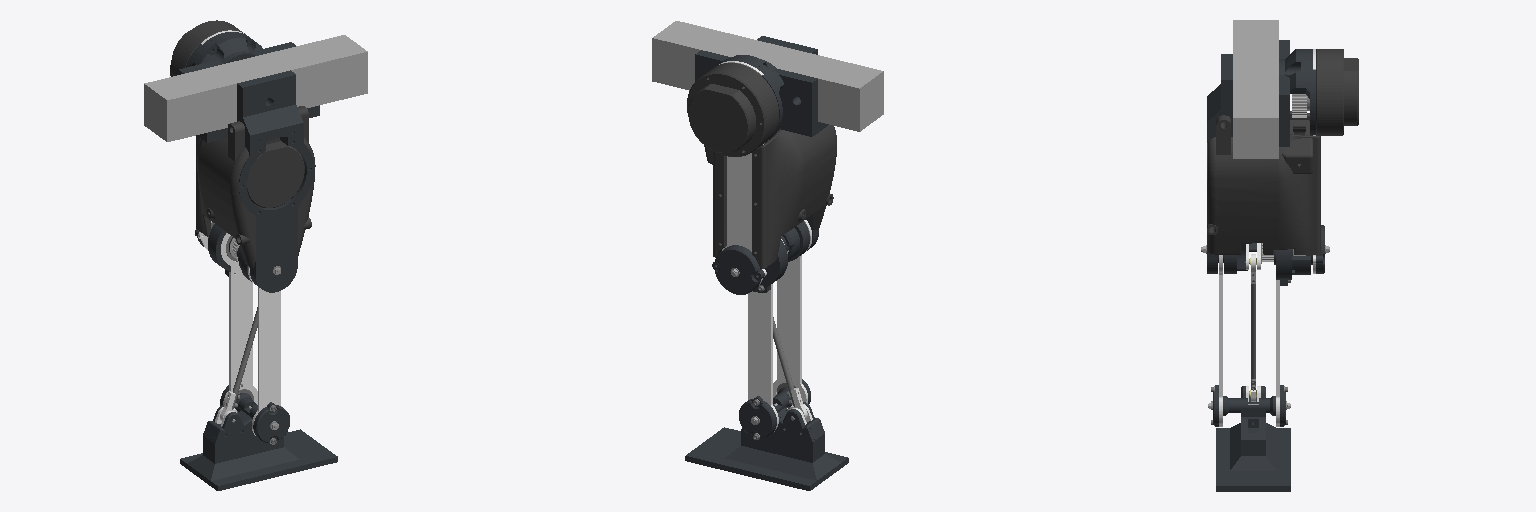
--- Facts derived from the render (not from the file) ---
3 views of the same robot in one strip: view 1: azimuth 30°, elevation 25°; view 2: azimuth 150°, elevation 25°; view 3: azimuth 270°, elevation 25° (orthographic).
Robot: benchmark — 10 links, 9 joints (6 revolute, 3 fixed); root link aluminum_profile; default pose: every joint at zero.
Links seen in each view (by area): view 1: aluminum_profile, left_tibia, benchmark_foot, ankle_shaft; view 2: aluminum_profile, left_tibia, benchmark_foot, left_crank, ankle_shaft; view 3: aluminum_profile, benchmark_foot, left_tibia, left_crank, ankle_shaft.
Boxes of the visible links, x1,y1,x2,y2 form: aluminum_profile: [144, 20, 367, 292]; left_tibia: [208, 224, 289, 444]; benchmark_foot: [180, 393, 337, 490]; ankle_shaft: [220, 307, 257, 421]; aluminum_profile: [652, 21, 883, 294]; left_tibia: [739, 220, 811, 440]; benchmark_foot: [685, 386, 848, 490]; left_crank: [781, 221, 809, 261]; ankle_shaft: [773, 317, 807, 418]; aluminum_profile: [1201, 20, 1358, 273]; benchmark_foot: [1216, 386, 1290, 491]; left_tibia: [1208, 249, 1312, 426]; left_crank: [1224, 243, 1275, 273]; ankle_shaft: [1250, 254, 1256, 401].
Bounding box of the posed robot: 0.2 × 0.1366 × 0.3905 m (x, y, z).
Meshes: 48 distinct files referenced, 111 mesh visuals loaded (48 binary STL).

The robot description file, URDF, robot "benchmark":
<?xml version="1.0" ?>
<!-- Generated using onshape-to-robot -->
<!-- Onshape https://cad.onshape.com/documents/326c7618f048bbd5c9f71f42/w/085260104f7529d4aa44dfd3/e/362dba3e9b9b20be3e7fcf95 -->
<robot name="benchmark">
  <!-- Link aluminum_profile -->
  <link name="aluminum_profile">
    <inertial>
      <origin xyz="0 0 0" rpy="0 0 0"/>
      <mass value="0"/>
      <inertia ixx="0" ixy="0" ixz="0" iyy="0" iyz="0" izz="0"/>
    </inertial>
    <!-- Part benchmark_back_cover -->
    <visual>
      <origin xyz="-0.000132957 0 0.42" rpy="-1.2326e-32 -5.23711e-65 -8.55285e-49"/>
      <geometry>
        <mesh filename="package://assets/benchmark_back_cover.stl"/>
      </geometry>
      <material name="benchmark_back_cover_material">
        <color rgba="0.301961 0.301961 0.301961 1.0"/>
      </material>
    </visual>
    <collision>
      <origin xyz="-0.000132957 0 0.42" rpy="-1.2326e-32 -5.23711e-65 -8.55285e-49"/>
      <geometry>
        <mesh filename="package://assets/benchmark_back_cover.stl"/>
      </geometry>
    </collision>
    <!-- Part bearing_cover_1 -->
    <visual>
      <origin xyz="-0.000132957 0 0.42" rpy="-1.2326e-32 -5.23711e-65 -8.55285e-49"/>
      <geometry>
        <mesh filename="package://assets/bearing_cover_1.stl"/>
      </geometry>
      <material name="bearing_cover_1_material">
        <color rgba="0.262745 0.282353 0.301961 1.0"/>
      </material>
    </visual>
    <collision>
      <origin xyz="-0.000132957 0 0.42" rpy="-1.2326e-32 -5.23711e-65 -8.55285e-49"/>
      <geometry>
        <mesh filename="package://assets/bearing_cover_1.stl"/>
      </geometry>
    </collision>
    <!-- Part bearing_6804_2rs -->
    <visual>
      <origin xyz="-0.000132957 -0.087 0.269" rpy="-1.2326e-32 -5.23711e-65 -8.55285e-49"/>
      <geometry>
        <mesh filename="package://assets/bearing_6804_2rs.stl"/>
      </geometry>
      <material name="bearing_6804_2rs_material">
        <color rgba="0.498039 0.498039 0.498039 1.0"/>
      </material>
    </visual>
    <collision>
      <origin xyz="-0.000132957 -0.087 0.269" rpy="-1.2326e-32 -5.23711e-65 -8.55285e-49"/>
      <geometry>
        <mesh filename="package://assets/bearing_6804_2rs.stl"/>
      </geometry>
    </collision>
    <!-- Part benchmark_outer_hip -->
    <visual>
      <origin xyz="-0.000132957 0 0.42" rpy="-1.2326e-32 -5.23711e-65 -8.55285e-49"/>
      <geometry>
        <mesh filename="package://assets/benchmark_outer_hip.stl"/>
      </geometry>
      <material name="benchmark_outer_hip_material">
        <color rgba="0.262745 0.282353 0.301961 1.0"/>
      </material>
    </visual>
    <collision>
      <origin xyz="-0.000132957 0 0.42" rpy="-1.2326e-32 -5.23711e-65 -8.55285e-49"/>
      <geometry>
        <mesh filename="package://assets/benchmark_outer_hip.stl"/>
      </geometry>
    </collision>
    <!-- Part threaded_shaft__configuration_knee -->
    <visual>
      <origin xyz="-0.000132957 0.0141 0.269" rpy="-1.5708 5.55112e-17 -1.5708"/>
      <geometry>
        <mesh filename="package://assets/threaded_shaft__configuration_knee.stl"/>
      </geometry>
      <material name="threaded_shaft__configuration_knee_material">
        <color rgba="0.647059 0.647059 0.647059 1.0"/>
      </material>
    </visual>
    <collision>
      <origin xyz="-0.000132957 0.0141 0.269" rpy="-1.5708 5.55112e-17 -1.5708"/>
      <geometry>
        <mesh filename="package://assets/threaded_shaft__configuration_knee.stl"/>
      </geometry>
    </collision>
    <!-- Part benchmark_inner_femur -->
    <visual>
      <origin xyz="-0.000132957 0 0.42" rpy="-1.2326e-32 -5.23711e-65 -8.55285e-49"/>
      <geometry>
        <mesh filename="package://assets/benchmark_inner_femur.stl"/>
      </geometry>
      <material name="benchmark_inner_femur_material">
        <color rgba="0.262745 0.282353 0.301961 1.0"/>
      </material>
    </visual>
    <collision>
      <origin xyz="-0.000132957 0 0.42" rpy="-1.2326e-32 -5.23711e-65 -8.55285e-49"/>
      <geometry>
        <mesh filename="package://assets/benchmark_inner_femur.stl"/>
      </geometry>
    </collision>
    <!-- Part nut_m3 -->
    <visual>
      <origin xyz="-0.000132957 -0.0944 0.269" rpy="1.5708 -2.93216e-16 -1.5708"/>
      <geometry>
        <mesh filename="package://assets/nut_m3.stl"/>
      </geometry>
      <material name="nut_m3_material">
        <color rgba="0.690196 0.690196 0.690196 1.0"/>
      </material>
    </visual>
    <collision>
      <origin xyz="-0.000132957 -0.0944 0.269" rpy="1.5708 -2.93216e-16 -1.5708"/>
      <geometry>
        <mesh filename="package://assets/nut_m3.stl"/>
      </geometry>
    </collision>
    <!-- Part washer__configuration_m3 -->
    <visual>
      <origin xyz="-0.000132957 0.00950001 0.269" rpy="3.14159 -0 2.41519e-47"/>
      <geometry>
        <mesh filename="package://assets/washer__configuration_m3.stl"/>
      </geometry>
      <material name="washer__configuration_m3_material">
        <color rgba="0.6 0.6 0.6 1.0"/>
      </material>
    </visual>
    <collision>
      <origin xyz="-0.000132957 0.00950001 0.269" rpy="3.14159 -0 2.41519e-47"/>
      <geometry>
        <mesh filename="package://assets/washer__configuration_m3.stl"/>
      </geometry>
    </collision>
    <!-- Part rmd_x6 -->
    <visual>
      <origin xyz="-0.000132957 9.88509e-98 0.42" rpy="-1.2326e-32 -5.23711e-65 -8.55285e-49"/>
      <geometry>
        <mesh filename="package://assets/rmd_x6.stl"/>
      </geometry>
      <material name="rmd_x6_material">
        <color rgba="0.301961 0.301961 0.301961 1.0"/>
      </material>
    </visual>
    <collision>
      <origin xyz="-0.000132957 9.88509e-98 0.42" rpy="-1.2326e-32 -5.23711e-65 -8.55285e-49"/>
      <geometry>
        <mesh filename="package://assets/rmd_x6.stl"/>
      </geometry>
    </collision>
    <!-- Part bearing_6804_2rs_2 -->
    <visual>
      <origin xyz="-0.000132957 0.00200001 0.269" rpy="-6.12323e-17 -5.23711e-65 -8.55285e-49"/>
      <geometry>
        <mesh filename="package://assets/bearing_6804_2rs.stl"/>
      </geometry>
      <material name="bearing_6804_2rs_2_material">
        <color rgba="0.498039 0.498039 0.498039 1.0"/>
      </material>
    </visual>
    <collision>
      <origin xyz="-0.000132957 0.00200001 0.269" rpy="-6.12323e-17 -5.23711e-65 -8.55285e-49"/>
      <geometry>
        <mesh filename="package://assets/bearing_6804_2rs.stl"/>
      </geometry>
    </collision>
    <!-- Part benchmark_outer_femur -->
    <visual>
      <origin xyz="-0.000132957 0 0.42" rpy="-1.2326e-32 -5.23711e-65 -8.55285e-49"/>
      <geometry>
        <mesh filename="package://assets/benchmark_outer_femur.stl"/>
      </geometry>
      <material name="benchmark_outer_femur_material">
        <color rgba="0.917647 0.917647 0.917647 1.0"/>
      </material>
    </visual>
    <collision>
      <origin xyz="-0.000132957 0 0.42" rpy="-1.2326e-32 -5.23711e-65 -8.55285e-49"/>
      <geometry>
        <mesh filename="package://assets/benchmark_outer_femur.stl"/>
      </geometry>
    </collision>
    <!-- Part washer__configuration_m3_2 -->
    <visual>
      <origin xyz="-0.000132957 -0.0935 0.269" rpy="-1.2326e-32 -5.23711e-65 -8.55285e-49"/>
      <geometry>
        <mesh filename="package://assets/washer__configuration_m3.stl"/>
      </geometry>
      <material name="washer__configuration_m3_2_material">
        <color rgba="0.6 0.6 0.6 1.0"/>
      </material>
    </visual>
    <collision>
      <origin xyz="-0.000132957 -0.0935 0.269" rpy="-1.2326e-32 -5.23711e-65 -8.55285e-49"/>
      <geometry>
        <mesh filename="package://assets/washer__configuration_m3.stl"/>
      </geometry>
    </collision>
    <!-- Part rmd_x6_2 -->
    <visual>
      <origin xyz="-0.000132957 0 0.42" rpy="-1.2326e-32 -5.23711e-65 -8.55285e-49"/>
      <geometry>
        <mesh filename="package://assets/rmd_x6__2.stl"/>
      </geometry>
      <material name="rmd_x6_2_material">
        <color rgba="0.301961 0.301961 0.301961 1.0"/>
      </material>
    </visual>
    <collision>
      <origin xyz="-0.000132957 0 0.42" rpy="-1.2326e-32 -5.23711e-65 -8.55285e-49"/>
      <geometry>
        <mesh filename="package://assets/rmd_x6__2.stl"/>
      </geometry>
    </collision>
    <!-- Part aluminum_profile -->
    <visual>
      <origin xyz="0 0 0.42" rpy="0 -0 0"/>
      <geometry>
        <mesh filename="package://assets/aluminum_profile.stl"/>
      </geometry>
      <material name="aluminum_profile_material">
        <color rgba="0.701961 0.701961 0.701961 1.0"/>
      </material>
    </visual>
    <collision>
      <origin xyz="0 0 0.42" rpy="0 -0 0"/>
      <geometry>
        <mesh filename="package://assets/aluminum_profile.stl"/>
      </geometry>
    </collision>
    <!-- Part benchmark_front_cover -->
    <visual>
      <origin xyz="-0.000132957 0 0.42" rpy="-1.2326e-32 -5.23711e-65 -8.55285e-49"/>
      <geometry>
        <mesh filename="package://assets/benchmark_front_cover.stl"/>
      </geometry>
      <material name="benchmark_front_cover_material">
        <color rgba="0.301961 0.301961 0.301961 1.0"/>
      </material>
    </visual>
    <collision>
      <origin xyz="-0.000132957 0 0.42" rpy="-1.2326e-32 -5.23711e-65 -8.55285e-49"/>
      <geometry>
        <mesh filename="package://assets/benchmark_front_cover.stl"/>
      </geometry>
    </collision>
    <!-- Part nut_m3_2 -->
    <visual>
      <origin xyz="-0.000132957 0.0104 0.269" rpy="-1.5708 3.54449e-16 1.5708"/>
      <geometry>
        <mesh filename="package://assets/nut_m3.stl"/>
      </geometry>
      <material name="nut_m3_2_material">
        <color rgba="0.690196 0.690196 0.690196 1.0"/>
      </material>
    </visual>
    <collision>
      <origin xyz="-0.000132957 0.0104 0.269" rpy="-1.5708 3.54449e-16 1.5708"/>
      <geometry>
        <mesh filename="package://assets/nut_m3.stl"/>
      </geometry>
    </collision>
    <!-- Part upper_femur_2 -->
    <visual>
      <origin xyz="-0.000132957 -3.84739e-98 0.42" rpy="-1.2326e-32 -5.23711e-65 -8.55285e-49"/>
      <geometry>
        <mesh filename="package://assets/upper_femur_2.stl"/>
      </geometry>
      <material name="upper_femur_2_material">
        <color rgba="0.262745 0.282353 0.301961 1.0"/>
      </material>
    </visual>
    <collision>
      <origin xyz="-0.000132957 -3.84739e-98 0.42" rpy="-1.2326e-32 -5.23711e-65 -8.55285e-49"/>
      <geometry>
        <mesh filename="package://assets/upper_femur_2.stl"/>
      </geometry>
    </collision>
  </link>
  <!-- Link motor_pulley -->
  <link name="motor_pulley">
    <inertial>
      <origin xyz="-6.05671e-16 4.59528e-05 -0.010399" rpy="0 0 0"/>
      <mass value="0.0695532"/>
      <inertia ixx="9.82762e-06" ixy="-2.78977e-21" ixz="-1.32647e-20" iyy="9.79581e-06" iyz="-2.8028e-08" izz="1.56643e-05"/>
    </inertial>
    <!-- Part din_6325_3mm__configuration__12 -->
    <visual>
      <origin xyz="0 0.01 -0.006" rpy="-1.5708 -1.5708 0"/>
      <geometry>
        <mesh filename="package://assets/din_6325_3mm__configuration__12.stl"/>
      </geometry>
      <material name="din_6325_3mm__configuration__12_material">
        <color rgba="0.498039 0.498039 0.498039 1.0"/>
      </material>
    </visual>
    <collision>
      <origin xyz="0 0.01 -0.006" rpy="-1.5708 -1.5708 0"/>
      <geometry>
        <mesh filename="package://assets/din_6325_3mm__configuration__12.stl"/>
      </geometry>
    </collision>
    <!-- Part screw_m3__configuration__12 -->
    <visual>
      <origin xyz="-0.01 0 -0.0102" rpy="3.2068e-81 -6.12303e-17 -1.5708"/>
      <geometry>
        <mesh filename="package://assets/screw_m3__configuration__12.stl"/>
      </geometry>
      <material name="screw_m3__configuration__12_material">
        <color rgba="0.301961 0.301961 0.301961 1.0"/>
      </material>
    </visual>
    <collision>
      <origin xyz="-0.01 0 -0.0102" rpy="3.2068e-81 -6.12303e-17 -1.5708"/>
      <geometry>
        <mesh filename="package://assets/screw_m3__configuration__12.stl"/>
      </geometry>
    </collision>
    <!-- Part screw_m3__configuration__12_2 -->
    <visual>
      <origin xyz="-0.005 0.00866025 -0.0102" rpy="3.2068e-81 -6.12303e-17 -1.5708"/>
      <geometry>
        <mesh filename="package://assets/screw_m3__configuration__12.stl"/>
      </geometry>
      <material name="screw_m3__configuration__12_2_material">
        <color rgba="0.301961 0.301961 0.301961 1.0"/>
      </material>
    </visual>
    <collision>
      <origin xyz="-0.005 0.00866025 -0.0102" rpy="3.2068e-81 -6.12303e-17 -1.5708"/>
      <geometry>
        <mesh filename="package://assets/screw_m3__configuration__12.stl"/>
      </geometry>
    </collision>
    <!-- Part screw_m3__configuration__12_3 -->
    <visual>
      <origin xyz="0.005 0.00866025 -0.0102" rpy="3.2068e-81 -6.12303e-17 -1.5708"/>
      <geometry>
        <mesh filename="package://assets/screw_m3__configuration__12.stl"/>
      </geometry>
      <material name="screw_m3__configuration__12_3_material">
        <color rgba="0.301961 0.301961 0.301961 1.0"/>
      </material>
    </visual>
    <collision>
      <origin xyz="0.005 0.00866025 -0.0102" rpy="3.2068e-81 -6.12303e-17 -1.5708"/>
      <geometry>
        <mesh filename="package://assets/screw_m3__configuration__12.stl"/>
      </geometry>
    </collision>
    <!-- Part screw_m3__configuration__12_4 -->
    <visual>
      <origin xyz="0.005 -0.00866025 -0.0102" rpy="3.2068e-81 -6.12303e-17 -1.5708"/>
      <geometry>
        <mesh filename="package://assets/screw_m3__configuration__12.stl"/>
      </geometry>
      <material name="screw_m3__configuration__12_4_material">
        <color rgba="0.301961 0.301961 0.301961 1.0"/>
      </material>
    </visual>
    <collision>
      <origin xyz="0.005 -0.00866025 -0.0102" rpy="3.2068e-81 -6.12303e-17 -1.5708"/>
      <geometry>
        <mesh filename="package://assets/screw_m3__configuration__12.stl"/>
      </geometry>
    </collision>
    <!-- Part screw_m3__configuration__12_5 -->
    <visual>
      <origin xyz="-0.005 -0.00866025 -0.0102" rpy="3.2068e-81 -6.12303e-17 -1.5708"/>
      <geometry>
        <mesh filename="package://assets/screw_m3__configuration__12.stl"/>
      </geometry>
      <material name="screw_m3__configuration__12_5_material">
        <color rgba="0.301961 0.301961 0.301961 1.0"/>
      </material>
    </visual>
    <collision>
      <origin xyz="-0.005 -0.00866025 -0.0102" rpy="3.2068e-81 -6.12303e-17 -1.5708"/>
      <geometry>
        <mesh filename="package://assets/screw_m3__configuration__12.stl"/>
      </geometry>
    </collision>
    <!-- Part motor_pulley -->
    <visual>
      <origin xyz="0 0 -0.0194" rpy="-1.5708 -1.5708 0"/>
      <geometry>
        <mesh filename="package://assets/motor_pulley.stl"/>
      </geometry>
      <material name="motor_pulley_material">
        <color rgba="0.690196 0.690196 0.690196 1.0"/>
      </material>
    </visual>
    <collision>
      <origin xyz="0 0 -0.0194" rpy="-1.5708 -1.5708 0"/>
      <geometry>
        <mesh filename="package://assets/motor_pulley.stl"/>
      </geometry>
    </collision>
    <!-- Part screw_m3__configuration__12_6 -->
    <visual>
      <origin xyz="0.01 0 -0.0102" rpy="3.2068e-81 -6.12303e-17 -1.5708"/>
      <geometry>
        <mesh filename="package://assets/screw_m3__configuration__12.stl"/>
      </geometry>
      <material name="screw_m3__configuration__12_6_material">
        <color rgba="0.301961 0.301961 0.301961 1.0"/>
      </material>
    </visual>
    <collision>
      <origin xyz="0.01 0 -0.0102" rpy="3.2068e-81 -6.12303e-17 -1.5708"/>
      <geometry>
        <mesh filename="package://assets/screw_m3__configuration__12.stl"/>
      </geometry>
    </collision>
  </link>
  <!-- Joint from aluminum_profile to motor_pulley -->
  <joint name="knee_motor" type="revolute">
    <origin xyz="-0.000132957 0 0.42" rpy="1.5708 5.23711e-65 3.14159"/>
    <parent link="aluminum_profile"/>
    <child link="motor_pulley"/>
    <axis xyz="0 0 1"/>
    <limit effort="10" velocity="10" lower="-3.141592653589793" upper="3.141592653589793"/>
  </joint>
  <!-- Link left_tibia -->
  <link name="left_tibia">
    <inertial>
      <origin xyz="0.000199221 -0.0560065 -0.0375301" rpy="0 0 0"/>
      <mass value="0.139207"/>
      <inertia ixx="0.00066239" ixy="-1.30651e-06" ixz="1.00378e-06" iyy="0.000116019" iyz="7.99666e-05" izz="0.00056617"/>
    </inertial>
    <!-- Part washer__configuration_m2_5 -->
    <visual>
      <origin xyz="0.0065 0.0204939 -0.0603" rpy="1.5708 -1.75935e-23 -1.23845e-13"/>
      <geometry>
        <mesh filename="package://assets/washer__configuration_m2_5.stl"/>
      </geometry>
      <material name="washer__configuration_m2_5_material">
        <color rgba="0.6 0.6 0.6 1.0"/>
      </material>
    </visual>
    <collision>
      <origin xyz="0.0065 0.0204939 -0.0603" rpy="1.5708 -1.75935e-23 -1.23845e-13"/>
      <geometry>
        <mesh filename="package://assets/washer__configuration_m2_5.stl"/>
      </geometry>
    </collision>
    <!-- Part screw_m2_5__configuration__10 -->
    <visual>
      <origin xyz="0.0065 -0.0262059 -0.0619" rpy="6.66134e-16 8.27463e-16 -1.244e-13"/>
      <geometry>
        <mesh filename="package://assets/screw_m2_5__configuration__10.stl"/>
      </geometry>
      <material name="screw_m2_5__configuration__10_material">
        <color rgba="0.498039 0.498039 0.498039 1.0"/>
      </material>
    </visual>
    <collision>
      <origin xyz="0.0065 -0.0262059 -0.0619" rpy="6.66134e-16 8.27463e-16 -1.244e-13"/>
      <geometry>
        <mesh filename="package://assets/screw_m2_5__configuration__10.stl"/>
      </geometry>
    </collision>
    <!-- Part ankle_bearing_cover -->
    <visual>
      <origin xyz="2.77827e-17 0.151 0.0292" rpy="1.5708 1.75935e-23 3.14159"/>
      <geometry>
        <mesh filename="package://assets/ankle_bearing_cover.stl"/>
      </geometry>
      <material name="ankle_bearing_cover_material">
        <color rgba="0.262745 0.282353 0.301961 1.0"/>
      </material>
    </visual>
    <collision>
      <origin xyz="2.77827e-17 0.151 0.0292" rpy="1.5708 1.75935e-23 3.14159"/>
      <geometry>
        <mesh filename="package://assets/ankle_bearing_cover.stl"/>
      </geometry>
    </collision>
    <!-- Part inner_tibia -->
    <visual>
      <origin xyz="2.71051e-20 0.151 -0.0835" rpy="-1.5708 -4.0528e-32 3.77882e-34"/>
      <geometry>
        <mesh filename="package://assets/inner_tibia.stl"/>
      </geometry>
      <material name="inner_tibia_material">
        <color rgba="0.917647 0.917647 0.917647 1.0"/>
      </material>
    </visual>
    <collision>
      <origin xyz="2.71051e-20 0.151 -0.0835" rpy="-1.5708 -4.0528e-32 3.77882e-34"/>
      <geometry>
        <mesh filename="package://assets/inner_tibia.stl"/>
      </geometry>
    </collision>
    <!-- Part washer__configuration_m3_3 -->
    <visual>
      <origin xyz="-3.33344e-14 -0.15 0.005" rpy="-1.5708 -4.0528e-32 3.77882e-34"/>
      <geometry>
        <mesh filename="package://assets/washer__configuration_m3.stl"/>
      </geometry>
      <material name="washer__configuration_m3_3_material">
        <color rgba="0.6 0.6 0.6 1.0"/>
      </material>
    </visual>
    <collision>
      <origin xyz="-3.33344e-14 -0.15 0.005" rpy="-1.5708 -4.0528e-32 3.77882e-34"/>
      <geometry>
        <mesh filename="package://assets/washer__configuration_m3.stl"/>
      </geometry>
    </collision>
    <!-- Part bearing_6802_2rs -->
    <visual>
      <origin xyz="-3.31401e-14 -0.15 -0.0015" rpy="-6.27276e-15 -1.5708 0"/>
      <geometry>
        <mesh filename="package://assets/bearing_6802_2rs.stl"/>
      </geometry>
      <material name="bearing_6802_2rs_material">
        <color rgba="0.498039 0.498039 0.498039 1.0"/>
      </material>
    </visual>
    <collision>
      <origin xyz="-3.31401e-14 -0.15 -0.0015" rpy="-6.27276e-15 -1.5708 0"/>
      <geometry>
        <mesh filename="package://assets/bearing_6802_2rs.stl"/>
      </geometry>
    </collision>
    <!-- Part washer__configuration_m2_5_2 -->
    <visual>
      <origin xyz="-1.67921e-14 -0.006 -0.007" rpy="1.5708 -1.75935e-23 -1.23845e-13"/>
      <geometry>
        <mesh filename="package://assets/washer__configuration_m2_5.stl"/>
      </geometry>
      <material name="washer__configuration_m2_5_2_material">
        <color rgba="0.6 0.6 0.6 1.0"/>
      </material>
    </visual>
    <collision>
      <origin xyz="-1.67921e-14 -0.006 -0.007" rpy="1.5708 -1.75935e-23 -1.23845e-13"/>
      <geometry>
        <mesh filename="package://assets/washer__configuration_m2_5.stl"/>
      </geometry>
    </collision>
    <!-- Part washer__configuration_m2_5_3 -->
    <visual>
      <origin xyz="-3.46945e-14 -0.16575 -0.0573" rpy="1.5708 -1.75935e-23 -1.23845e-13"/>
      <geometry>
        <mesh filename="package://assets/washer__configuration_m2_5.stl"/>
      </geometry>
      <material name="washer__configuration_m2_5_3_material">
        <color rgba="0.6 0.6 0.6 1.0"/>
      </material>
    </visual>
    <collision>
      <origin xyz="-3.46945e-14 -0.16575 -0.0573" rpy="1.5708 -1.75935e-23 -1.23845e-13"/>
      <geometry>
        <mesh filename="package://assets/washer__configuration_m2_5.stl"/>
      </geometry>
    </collision>
    <!-- Part screw_m2_5__configuration__8 -->
    <visual>
      <origin xyz="-3.47222e-14 -0.16575 0.0046" rpy="3.14159 -3.1225e-17 -1.23623e-13"/>
      <geometry>
        <mesh filename="package://assets/screw_m2_5__configuration__8.stl"/>
      </geometry>
      <material name="screw_m2_5__configuration__8_material">
        <color rgba="0.498039 0.498039 0.498039 1.0"/>
      </material>
    </visual>
    <collision>
      <origin xyz="-3.47222e-14 -0.16575 0.0046" rpy="3.14159 -3.1225e-17 -1.23623e-13"/>
      <geometry>
        <mesh filename="package://assets/screw_m2_5__configuration__8.stl"/>
      </geometry>
    </collision>
    <!-- Part washer__configuration_m2_5_4 -->
    <visual>
      <origin xyz="-3.15581e-14 -0.13425 -0.0573" rpy="1.5708 -1.75935e-23 -1.23845e-13"/>
      <geometry>
        <mesh filename="package://assets/washer__configuration_m2_5.stl"/>
      </geometry>
      <material name="washer__configuration_m2_5_4_material">
        <color rgba="0.6 0.6 0.6 1.0"/>
      </material>
    </visual>
    <collision>
      <origin xyz="-3.15581e-14 -0.13425 -0.0573" rpy="1.5708 -1.75935e-23 -1.23845e-13"/>
      <geometry>
        <mesh filename="package://assets/washer__configuration_m2_5.stl"/>
      </geometry>
    </collision>
    <!-- Part washer__configuration_m3_4 -->
    <visual>
      <origin xyz="-3.34176e-14 -0.15 -0.0593" rpy="1.5708 -1.75935e-23 -1.23845e-13"/>
      <geometry>
        <mesh filename="package://assets/washer__configuration_m3.stl"/>
      </geometry>
      <material name="washer__configuration_m3_4_material">
        <color rgba="0.6 0.6 0.6 1.0"/>
      </material>
    </visual>
    <collision>
      <origin xyz="-3.34176e-14 -0.15 -0.0593" rpy="1.5708 -1.75935e-23 -1.23845e-13"/>
      <geometry>
        <mesh filename="package://assets/washer__configuration_m3.stl"/>
      </geometry>
    </collision>
    <!-- Part bearing_6802_2rs_2 -->
    <visual>
      <origin xyz="-3.31124e-14 -0.15 -0.0528" rpy="8.04912e-15 1.5708 0"/>
      <geometry>
        <mesh filename="package://assets/bearing_6802_2rs.stl"/>
      </geometry>
      <material name="bearing_6802_2rs_2_material">
        <color rgba="0.498039 0.498039 0.498039 1.0"/>
      </material>
    </visual>
    <collision>
      <origin xyz="-3.31124e-14 -0.15 -0.0528" rpy="8.04912e-15 1.5708 0"/>
      <geometry>
        <mesh filename="package://assets/bearing_6802_2rs.stl"/>
      </geometry>
    </collision>
    <!-- Part bearing_6804_2rs_3 -->
    <visual>
      <origin xyz="-1.62925e-14 -5.55112e-16 -0.0538" rpy="1.5708 -1.75935e-23 -1.23845e-13"/>
      <geometry>
        <mesh filename="package://assets/bearing_6804_2rs.stl"/>
      </geometry>
      <material name="bearing_6804_2rs_3_material">
        <color rgba="0.498039 0.498039 0.498039 1.0"/>
      </material>
    </visual>
    <collision>
      <origin xyz="-1.62925e-14 -5.55112e-16 -0.0538" rpy="1.5708 -1.75935e-23 -1.23845e-13"/>
      <geometry>
        <mesh filename="package://assets/bearing_6804_2rs.stl"/>
      </geometry>
    </collision>
    <!-- Part screw_m2_5__configuration__8_2 -->
    <visual>
      <origin xyz="-3.4972e-14 -0.16575 -0.0589" rpy="6.66134e-16 8.27463e-16 -1.244e-13"/>
      <geometry>
        <mesh filename="package://assets/screw_m2_5__configuration__8.stl"/>
      </geometry>
      <material name="screw_m2_5__configuration__8_2_material">
        <color rgba="0.498039 0.498039 0.498039 1.0"/>
      </material>
    </visual>
    <collision>
      <origin xyz="-3.4972e-14 -0.16575 -0.0589" rpy="6.66134e-16 8.27463e-16 -1.244e-13"/>
      <geometry>
        <mesh filename="package://assets/screw_m2_5__configuration__8.stl"/>
      </geometry>
    </collision>
    <!-- Part screw_m2_5__configuration__140 -->
    <visual>
      <origin xyz="-1.67366e-14 -0.006 -0.0086" rpy="6.66134e-16 8.27463e-16 -1.244e-13"/>
      <geometry>
        <mesh filename="package://assets/screw_m2_5__configuration__140.stl"/>
      </geometry>
      <material name="screw_m2_5__configuration__140_material">
        <color rgba="0.498039 0.498039 0.498039 1.0"/>
      </material>
    </visual>
    <collision>
      <origin xyz="-1.67366e-14 -0.006 -0.0086" rpy="6.66134e-16 8.27463e-16 -1.244e-13"/>
      <geometry>
        <mesh filename="package://assets/screw_m2_5__configuration__140.stl"/>
      </geometry>
    </collision>
    <!-- Part outer_knee_1 -->
    <visual>
      <origin xyz="-1.10995e-16 0.151 -0.0835" rpy="-1.5708 -4.0528e-32 3.77882e-34"/>
      <geometry>
        <mesh filename="package://assets/outer_knee_1.stl"/>
      </geometry>
      <material name="outer_knee_1_material">
        <color rgba="0.262745 0.282353 0.301961 1.0"/>
      </material>
    </visual>
    <collision>
      <origin xyz="-1.10995e-16 0.151 -0.0835" rpy="-1.5708 -4.0528e-32 3.77882e-34"/>
      <geometry>
        <mesh filename="package://assets/outer_knee_1.stl"/>
      </geometry>
    </collision>
    <!-- Part washer__configuration_m2_5_5 -->
    <visual>
      <origin xyz="0.00344146 0.00491491 -0.0607" rpy="1.5708 -1.75935e-23 -1.23845e-13"/>
      <geometry>
        <mesh filename="package://assets/washer__configuration_m2_5.stl"/>
      </geometry>
      <material name="washer__configuration_m2_5_5_material">
        <color rgba="0.6 0.6 0.6 1.0"/>
      </material>
    </visual>
    <collision>
      <origin xyz="0.00344146 0.00491491 -0.0607" rpy="1.5708 -1.75935e-23 -1.23845e-13"/>
      <geometry>
        <mesh filename="package://assets/washer__configuration_m2_5.stl"/>
      </geometry>
    </collision>
    <!-- Part washer__configuration_m2_5_6 -->
    <visual>
      <origin xyz="-3.1558e-14 -0.13425 0.0036" rpy="1.5708 -1.75935e-23 -1.23845e-13"/>
      <geometry>
        <mesh filename="package://assets/washer__configuration_m2_5.stl"/>
      </geometry>
      <material name="washer__configuration_m2_5_6_material">
        <color rgba="0.6 0.6 0.6 1.0"/>
      </material>
    </visual>
    <collision>
      <origin xyz="-3.1558e-14 -0.13425 0.0036" rpy="1.5708 -1.75935e-23 -1.23845e-13"/>
      <geometry>
        <mesh filename="package://assets/washer__configuration_m2_5.stl"/>
      </geometry>
    </collision>
    <!-- Part screw_m2_5__configuration__12 -->
    <visual>
      <origin xyz="0.0139256 -0.0097508 -0.0776" rpy="6.66134e-16 8.27463e-16 -1.244e-13"/>
      <geometry>
        <mesh filename="package://assets/screw_m2_5__configuration__12.stl"/>
      </geometry>
      <material name="screw_m2_5__configuration__12_material">
        <color rgba="0.498039 0.498039 0.498039 1.0"/>
      </material>
    </visual>
    <collision>
      <origin xyz="0.0139256 -0.0097508 -0.0776" rpy="6.66134e-16 8.27463e-16 -1.244e-13"/>
      <geometry>
        <mesh filename="package://assets/screw_m2_5__configuration__12.stl"/>
      </geometry>
    </collision>
    <!-- Part washer__configuration_m2_5_7 -->
    <visual>
      <origin xyz="-0.0065 0.0204939 -0.0603" rpy="1.5708 -1.75935e-23 -1.23845e-13"/>
      <geometry>
        <mesh filename="package://assets/washer__configuration_m2_5.stl"/>
      </geometry>
      <material name="washer__configuration_m2_5_7_material">
        <color rgba="0.6 0.6 0.6 1.0"/>
      </material>
    </visual>
    <collision>
      <origin xyz="-0.0065 0.0204939 -0.0603" rpy="1.5708 -1.75935e-23 -1.23845e-13"/>
      <geometry>
        <mesh filename="package://assets/washer__configuration_m2_5.stl"/>
      </geometry>
    </collision>
    <!-- Part washer__configuration_m2_5_8 -->
    <visual>
      <origin xyz="-3.46944e-14 -0.16575 0.003" rpy="-1.5708 -4.0528e-32 3.77882e-34"/>
      <geometry>
        <mesh filename="package://assets/washer__configuration_m2_5.stl"/>
      </geometry>
      <material name="washer__configuration_m2_5_8_material">
        <color rgba="0.6 0.6 0.6 1.0"/>
      </material>
    </visual>
    <collision>
      <origin xyz="-3.46944e-14 -0.16575 0.003" rpy="-1.5708 -4.0528e-32 3.77882e-34"/>
      <geometry>
        <mesh filename="package://assets/washer__configuration_m2_5.stl"/>
      </geometry>
    </collision>
    <!-- Part washer__configuration_m2_5_9 -->
    <visual>
      <origin xyz="-0.0065 -0.0262059 -0.0603" rpy="1.5708 -1.75935e-23 -1.23845e-13"/>
      <geometry>
        <mesh filename="package://assets/washer__configuration_m2_5.stl"/>
      </geometry>
      <material name="washer__configuration_m2_5_9_material">
        <color rgba="0.6 0.6 0.6 1.0"/>
      </material>
    </visual>
    <collision>
      <origin xyz="-0.0065 -0.0262059 -0.0603" rpy="1.5708 -1.75935e-23 -1.23845e-13"/>
      <geometry>
        <mesh filename="package://assets/washer__configuration_m2_5.stl"/>
      </geometry>
    </collision>
    <!-- Part washer__configuration_m2_5_10 -->
    <visual>
      <origin xyz="0.0065 -0.0262059 -0.0603" rpy="1.5708 -1.75935e-23 -1.23845e-13"/>
      <geometry>
        <mesh filename="package://assets/washer__configuration_m2_5.stl"/>
      </geometry>
      <material name="washer__configuration_m2_5_10_material">
        <color rgba="0.6 0.6 0.6 1.0"/>
      </material>
    </visual>
    <collision>
      <origin xyz="0.0065 -0.0262059 -0.0603" rpy="1.5708 -1.75935e-23 -1.23845e-13"/>
      <geometry>
        <mesh filename="package://assets/washer__configuration_m2_5.stl"/>
      </geometry>
    </collision>
    <!-- Part nut_m2_5 -->
    <visual>
      <origin xyz="0.0139256 -0.0097508 -0.0648" rpy="3.14159 -7.77156e-16 -0.610865"/>
      <geometry>
        <mesh filename="package://assets/nut_m2_5.stl"/>
      </geometry>
      <material name="nut_m2_5_material">
        <color rgba="0.647059 0.647059 0.647059 1.0"/>
      </material>
    </visual>
    <collision>
      <origin xyz="0.0139256 -0.0097508 -0.0648" rpy="3.14159 -7.77156e-16 -0.610865"/>
      <geometry>
        <mesh filename="package://assets/nut_m2_5.stl"/>
      </geometry>
    </collision>
    <!-- Part inner_knee -->
    <visual>
      <origin xyz="2.71051e-20 0.151 -0.0835" rpy="-1.5708 -4.0528e-32 3.77882e-34"/>
      <geometry>
        <mesh filename="package://assets/inner_knee.stl"/>
      </geometry>
      <material name="inner_knee_material">
        <color rgba="0.262745 0.282353 0.301961 1.0"/>
      </material>
    </visual>
    <collision>
      <origin xyz="2.71051e-20 0.151 -0.0835" rpy="-1.5708 -4.0528e-32 3.77882e-34"/>
      <geometry>
        <mesh filename="package://assets/inner_knee.stl"/>
      </geometry>
    </collision>
    <!-- Part washer__configuration_m2_5_11 -->
    <visual>
      <origin xyz="-0.00344146 -0.00491491 -0.0607" rpy="1.5708 -1.75935e-23 -1.23845e-13"/>
      <geometry>
        <mesh filename="package://assets/washer__configuration_m2_5.stl"/>
      </geometry>
      <material name="washer__configuration_m2_5_11_material">
        <color rgba="0.6 0.6 0.6 1.0"/>
      </material>
    </visual>
    <collision>
      <origin xyz="-0.00344146 -0.00491491 -0.0607" rpy="1.5708 -1.75935e-23 -1.23845e-13"/>
      <geometry>
        <mesh filename="package://assets/washer__configuration_m2_5.stl"/>
      </geometry>
    </collision>
    <!-- Part screw_m2_5__configuration__8_3 -->
    <visual>
      <origin xyz="0.00344146 0.00491491 -0.0597" rpy="3.14159 -3.1225e-17 -1.23623e-13"/>
      <geometry>
        <mesh filename="package://assets/screw_m2_5__configuration__8.stl"/>
      </geometry>
      <material name="screw_m2_5__configuration__8_3_material">
        <color rgba="0.498039 0.498039 0.498039 1.0"/>
      </material>
    </visual>
    <collision>
      <origin xyz="0.00344146 0.00491491 -0.0597" rpy="3.14159 -3.1225e-17 -1.23623e-13"/>
      <geometry>
        <mesh filename="package://assets/screw_m2_5__configuration__8.stl"/>
      </geometry>
    </collision>
    <!-- Part threaded_shaft__configuration_ankle -->
    <visual>
      <origin xyz="-3.33067e-14 -0.15 -0.0633" rpy="3.14159 -1.5708 0"/>
      <geometry>
        <mesh filename="package://assets/threaded_shaft__configuration_ankle.stl"/>
      </geometry>
      <material name="threaded_shaft__configuration_ankle_material">
        <color rgba="0.647059 0.647059 0.647059 1.0"/>
      </material>
    </visual>
    <collision>
      <origin xyz="-3.33067e-14 -0.15 -0.0633" rpy="3.14159 -1.5708 0"/>
      <geometry>
        <mesh filename="package://assets/threaded_shaft__configuration_ankle.stl"/>
      </geometry>
    </collision>
    <!-- Part screw_m2_5__configuration__10_2 -->
    <visual>
      <origin xyz="-0.0065 -0.0262059 -0.0619" rpy="6.66134e-16 8.27463e-16 -1.244e-13"/>
      <geometry>
        <mesh filename="package://assets/screw_m2_5__configuration__10.stl"/>
      </geometry>
      <material name="screw_m2_5__configuration__10_2_material">
        <color rgba="0.498039 0.498039 0.498039 1.0"/>
      </material>
    </visual>
    <collision>
      <origin xyz="-0.0065 -0.0262059 -0.0619" rpy="6.66134e-16 8.27463e-16 -1.244e-13"/>
      <geometry>
        <mesh filename="package://assets/screw_m2_5__configuration__10.stl"/>
      </geometry>
    </collision>
    <!-- Part screw_m2_5__configuration__8_4 -->
    <visual>
      <origin xyz="-3.15581e-14 -0.13425 0.0046" rpy="3.14159 -3.1225e-17 -1.23623e-13"/>
      <geometry>
        <mesh filename="package://assets/screw_m2_5__configuration__8.stl"/>
      </geometry>
      <material name="screw_m2_5__configuration__8_4_material">
        <color rgba="0.498039 0.498039 0.498039 1.0"/>
      </material>
    </visual>
    <collision>
      <origin xyz="-3.15581e-14 -0.13425 0.0046" rpy="3.14159 -3.1225e-17 -1.23623e-13"/>
      <geometry>
        <mesh filename="package://assets/screw_m2_5__configuration__8.stl"/>
      </geometry>
    </collision>
    <!-- Part washer__configuration_m2_5_12 -->
    <visual>
      <origin xyz="-1.52933e-14 0.006 0.0026" rpy="1.5708 -1.75935e-23 -1.23845e-13"/>
      <geometry>
        <mesh filename="package://assets/washer__configuration_m2_5.stl"/>
      </geometry>
      <material name="washer__configuration_m2_5_12_material">
        <color rgba="0.6 0.6 0.6 1.0"/>
      </material>
    </visual>
    <collision>
      <origin xyz="-1.52933e-14 0.006 0.0026" rpy="1.5708 -1.75935e-23 -1.23845e-13"/>
      <geometry>
        <mesh filename="package://assets/washer__configuration_m2_5.stl"/>
      </geometry>
    </collision>
    <!-- Part screw_m2_5__configuration__10_3 -->
    <visual>
      <origin xyz="-0.0065 0.0204939 -0.0619" rpy="6.66134e-16 8.27463e-16 -1.244e-13"/>
      <geometry>
        <mesh filename="package://assets/screw_m2_5__configuration__10.stl"/>
      </geometry>
      <material name="screw_m2_5__configuration__10_3_material">
        <color rgba="0.498039 0.498039 0.498039 1.0"/>
      </material>
    </visual>
    <collision>
      <origin xyz="-0.0065 0.0204939 -0.0619" rpy="6.66134e-16 8.27463e-16 -1.244e-13"/>
      <geometry>
        <mesh filename="package://assets/screw_m2_5__configuration__10.stl"/>
      </geometry>
    </collision>
    <!-- Part knee_pulley -->
    <visual>
      <origin xyz="-1.64035e-14 -1.22125e-15 -0.065" rpy="-0.959931 1.5708 0"/>
      <geometry>
        <mesh filename="package://assets/knee_pulley.stl"/>
      </geometry>
      <material name="knee_pulley_material">
        <color rgba="0.690196 0.690196 0.690196 1.0"/>
      </material>
    </visual>
    <collision>
      <origin xyz="-1.64035e-14 -1.22125e-15 -0.065" rpy="-0.959931 1.5708 0"/>
      <geometry>
        <mesh filename="package://assets/knee_pulley.stl"/>
      </geometry>
    </collision>
    <!-- Part washer__configuration_m2_5_13 -->
    <visual>
      <origin xyz="0.0139256 -0.0097508 -0.076" rpy="1.5708 -1.75935e-23 -1.23845e-13"/>
      <geometry>
        <mesh filename="package://assets/washer__configuration_m2_5.stl"/>
      </geometry>
      <material name="washer__configuration_m2_5_13_material">
        <color rgba="0.6 0.6 0.6 1.0"/>
      </material>
    </visual>
    <collision>
      <origin xyz="0.0139256 -0.0097508 -0.076" rpy="1.5708 -1.75935e-23 -1.23845e-13"/>
      <geometry>
        <mesh filename="package://assets/washer__configuration_m2_5.stl"/>
      </geometry>
    </collision>
    <!-- Part inner_knee_2 -->
    <visual>
      <origin xyz="-3.28626e-14 -0.151 0.0785" rpy="1.5708 -1.75935e-23 -1.23845e-13"/>
      <geometry>
        <mesh filename="package://assets/inner_knee.stl"/>
      </geometry>
      <material name="inner_knee_2_material">
        <color rgba="0.262745 0.282353 0.301961 1.0"/>
      </material>
    </visual>
    <collision>
      <origin xyz="-3.28626e-14 -0.151 0.0785" rpy="1.5708 -1.75935e-23 -1.23845e-13"/>
      <geometry>
        <mesh filename="package://assets/inner_knee.stl"/>
      </geometry>
    </collision>
    <!-- Part outer_tibia -->
    <visual>
      <origin xyz="-1.10995e-16 0.151 -0.0835" rpy="-1.5708 -4.0528e-32 3.77882e-34"/>
      <geometry>
        <mesh filename="package://assets/outer_tibia.stl"/>
      </geometry>
      <material name="outer_tibia_material">
        <color rgba="0.917647 0.917647 0.917647 1.0"/>
      </material>
    </visual>
    <collision>
      <origin xyz="-1.10995e-16 0.151 -0.0835" rpy="-1.5708 -4.0528e-32 3.77882e-34"/>
      <geometry>
        <mesh filename="package://assets/outer_tibia.stl"/>
      </geometry>
    </collision>
    <!-- Part nut_m2_5_2 -->
    <visual>
      <origin xyz="-1.56541e-14 0.006 -0.01" rpy="-1.09686e-24 -6.93889e-17 -1.23623e-13"/>
      <geometry>
        <mesh filename="package://assets/nut_m2_5.stl"/>
      </geometry>
      <material name="nut_m2_5_2_material">
        <color rgba="0.647059 0.647059 0.647059 1.0"/>
      </material>
    </visual>
    <collision>
      <origin xyz="-1.56541e-14 0.006 -0.01" rpy="-1.09686e-24 -6.93889e-17 -1.23623e-13"/>
      <geometry>
        <mesh filename="package://assets/nut_m2_5.stl"/>
      </geometry>
    </collision>
    <!-- Part screw_m2_5__configuration__140_2 -->
    <visual>
      <origin xyz="-1.52932e-14 0.006 0.0036" rpy="3.14159 -3.1225e-17 -1.23623e-13"/>
      <geometry>
        <mesh filename="package://assets/screw_m2_5__configuration__140.stl"/>
      </geometry>
      <material name="screw_m2_5__configuration__140_2_material">
        <color rgba="0.498039 0.498039 0.498039 1.0"/>
      </material>
    </visual>
    <collision>
      <origin xyz="-1.52932e-14 0.006 0.0036" rpy="3.14159 -3.1225e-17 -1.23623e-13"/>
      <geometry>
        <mesh filename="package://assets/screw_m2_5__configuration__140.stl"/>
      </geometry>
    </collision>
    <!-- Part nut_m2_5_3 -->
    <visual>
      <origin xyz="-1.6126e-14 -0.006 0.005" rpy="-3.14159 2.94903e-17 -1.23845e-13"/>
      <geometry>
        <mesh filename="package://assets/nut_m2_5.stl"/>
      </geometry>
      <material name="nut_m2_5_3_material">
        <color rgba="0.647059 0.647059 0.647059 1.0"/>
      </material>
    </visual>
    <collision>
      <origin xyz="-1.6126e-14 -0.006 0.005" rpy="-3.14159 2.94903e-17 -1.23845e-13"/>
      <geometry>
        <mesh filename="package://assets/nut_m2_5.stl"/>
      </geometry>
    </collision>
    <!-- Part screw_m2_5__configuration__8_5 -->
    <visual>
      <origin xyz="-3.13082e-14 -0.13425 -0.0589" rpy="6.66134e-16 8.27463e-16 -1.244e-13"/>
      <geometry>
        <mesh filename="package://assets/screw_m2_5__configuration__8.stl"/>
      </geometry>
      <material name="screw_m2_5__configuration__8_5_material">
        <color rgba="0.498039 0.498039 0.498039 1.0"/>
      </material>
    </visual>
    <collision>
      <origin xyz="-3.13082e-14 -0.13425 -0.0589" rpy="6.66134e-16 8.27463e-16 -1.244e-13"/>
      <geometry>
        <mesh filename="package://assets/screw_m2_5__configuration__8.stl"/>
      </geometry>
    </collision>
    <!-- Part nut_m3_3 -->
    <visual>
      <origin xyz="-3.31124e-14 -0.15 -0.0602" rpy="-3.14159 1.5708 0"/>
      <geometry>
        <mesh filename="package://assets/nut_m3.stl"/>
      </geometry>
      <material name="nut_m3_3_material">
        <color rgba="0.690196 0.690196 0.690196 1.0"/>
      </material>
    </visual>
    <collision>
      <origin xyz="-3.31124e-14 -0.15 -0.0602" rpy="-3.14159 1.5708 0"/>
      <geometry>
        <mesh filename="package://assets/nut_m3.stl"/>
      </geometry>
    </collision>
    <!-- Part din_6325_3mm__configuration__6 -->
    <visual>
      <origin xyz="-0.00491491 0.00344146 -0.0613" rpy="8.04912e-15 1.5708 0"/>
      <geometry>
        <mesh filename="package://assets/din_6325_3mm__configuration__6.stl"/>
      </geometry>
      <material name="din_6325_3mm__configuration__6_material">
        <color rgba="0.498039 0.498039 0.498039 1.0"/>
      </material>
    </visual>
    <collision>
      <origin xyz="-0.00491491 0.00344146 -0.0613" rpy="8.04912e-15 1.5708 0"/>
      <geometry>
        <mesh filename="package://assets/din_6325_3mm__configuration__6.stl"/>
      </geometry>
    </collision>
    <!-- Part outer_knee_2 -->
    <visual>
      <origin xyz="-1.10995e-16 0.151 -0.0835" rpy="-1.5708 -4.0528e-32 3.77882e-34"/>
      <geometry>
        <mesh filename="package://assets/outer_knee_2.stl"/>
      </geometry>
      <material name="outer_knee_2_material">
        <color rgba="0.262745 0.282353 0.301961 1.0"/>
      </material>
    </visual>
    <collision>
      <origin xyz="-1.10995e-16 0.151 -0.0835" rpy="-1.5708 -4.0528e-32 3.77882e-34"/>
      <geometry>
        <mesh filename="package://assets/outer_knee_2.stl"/>
      </geometry>
    </collision>
    <!-- Part screw_m2_5__configuration__8_6 -->
    <visual>
      <origin xyz="-0.00344146 -0.00491491 -0.0597" rpy="3.14159 -3.1225e-17 -1.23623e-13"/>
      <geometry>
        <mesh filename="package://assets/screw_m2_5__configuration__8.stl"/>
      </geometry>
      <material name="screw_m2_5__configuration__8_6_material">
        <color rgba="0.498039 0.498039 0.498039 1.0"/>
      </material>
    </visual>
    <collision>
      <origin xyz="-0.00344146 -0.00491491 -0.0597" rpy="3.14159 -3.1225e-17 -1.23623e-13"/>
      <geometry>
        <mesh filename="package://assets/screw_m2_5__configuration__8.stl"/>
      </geometry>
    </collision>
    <!-- Part ankle_bearing_cover_2 -->
    <visual>
      <origin xyz="2.71051e-20 0.151 -0.0835" rpy="-1.5708 -4.0528e-32 3.77882e-34"/>
      <geometry>
        <mesh filename="package://assets/ankle_bearing_cover.stl"/>
      </geometry>
      <material name="ankle_bearing_cover_2_material">
        <color rgba="0.262745 0.282353 0.301961 1.0"/>
      </material>
    </visual>
    <collision>
      <origin xyz="2.71051e-20 0.151 -0.0835" rpy="-1.5708 -4.0528e-32 3.77882e-34"/>
      <geometry>
        <mesh filename="package://assets/ankle_bearing_cover.stl"/>
      </geometry>
    </collision>
    <!-- Part nut_m3_4 -->
    <visual>
      <origin xyz="-3.31957e-14 -0.15 0.0059" rpy="3.14159 -1.5708 0"/>
      <geometry>
        <mesh filename="package://assets/nut_m3.stl"/>
      </geometry>
      <material name="nut_m3_4_material">
        <color rgba="0.690196 0.690196 0.690196 1.0"/>
      </material>
    </visual>
    <collision>
      <origin xyz="-3.31957e-14 -0.15 0.0059" rpy="3.14159 -1.5708 0"/>
      <geometry>
        <mesh filename="package://assets/nut_m3.stl"/>
      </geometry>
    </collision>
    <!-- Part screw_m2_5__configuration__10_4 -->
    <visual>
      <origin xyz="0.0065 0.0204939 -0.0619" rpy="6.66134e-16 8.27463e-16 -1.244e-13"/>
      <geometry>
        <mesh filename="package://assets/screw_m2_5__configuration__10.stl"/>
      </geometry>
      <material name="screw_m2_5__configuration__10_4_material">
        <color rgba="0.498039 0.498039 0.498039 1.0"/>
      </material>
    </visual>
    <collision>
      <origin xyz="0.0065 0.0204939 -0.0619" rpy="6.66134e-16 8.27463e-16 -1.244e-13"/>
      <geometry>
        <mesh filename="package://assets/screw_m2_5__configuration__10.stl"/>
      </geometry>
    </collision>
  </link>
  <!-- Link left_crank -->
  <link name="left_crank">
    <inertial>
      <origin xyz="-0.000293429 0.00222468 -0.020286" rpy="0 0 0"/>
      <mass value="0.055694"/>
      <inertia ixx="1.84447e-05" ixy="-4.97622e-08" ixz="6.19381e-08" iyy="1.5985e-05" iyz="7.25888e-07" izz="9.39554e-06"/>
    </inertial>
    <!-- Part knee_pulley_2 -->
    <visual>
      <origin xyz="-1.66533e-16 -1.77647e-16 -0.0323" rpy="-1.75262 1.5708 0"/>
      <geometry>
        <mesh filename="package://assets/knee_pulley_2.stl"/>
      </geometry>
      <material name="knee_pulley_2_material">
        <color rgba="0.690196 0.690196 0.690196 1.0"/>
      </material>
    </visual>
    <collision>
      <origin xyz="-1.66533e-16 -1.77647e-16 -0.0323" rpy="-1.75262 1.5708 0"/>
      <geometry>
        <mesh filename="package://assets/knee_pulley_2.stl"/>
      </geometry>
    </collision>
    <!-- Part outer_crank -->
    <visual>
      <origin xyz="-0.141126 -0.0537075 -0.0785" rpy="-1.5708 1.99949e-17 1.93444"/>
      <geometry>
        <mesh filename="package://assets/outer_crank.stl"/>
      </geometry>
      <material name="outer_crank_material">
        <color rgba="0.262745 0.282353 0.301961 1.0"/>
      </material>
    </visual>
    <collision>
      <origin xyz="-0.141126 -0.0537075 -0.0785" rpy="-1.5708 1.99949e-17 1.93444"/>
      <geometry>
        <mesh filename="package://assets/outer_crank.stl"/>
      </geometry>
    </collision>
    <!-- Part washer__configuration_m2_5_14 -->
    <visual>
      <origin xyz="-0.00201098 -0.00565296 -0.0151" rpy="-1.5708 1.37614e-18 -1.5708"/>
      <geometry>
        <mesh filename="package://assets/washer__configuration_m2_5.stl"/>
      </geometry>
      <material name="washer__configuration_m2_5_14_material">
        <color rgba="0.6 0.6 0.6 1.0"/>
      </material>
    </visual>
    <collision>
      <origin xyz="-0.00201098 -0.00565296 -0.0151" rpy="-1.5708 1.37614e-18 -1.5708"/>
      <geometry>
        <mesh filename="package://assets/washer__configuration_m2_5.stl"/>
      </geometry>
    </collision>
    <!-- Part din_6325_3mm__configuration__6_2 -->
    <visual>
      <origin xyz="0.0059011 0.00108492 -0.0351" rpy="1.25032e-13 -1.5708 0"/>
      <geometry>
        <mesh filename="package://assets/din_6325_3mm__configuration__6.stl"/>
      </geometry>
      <material name="din_6325_3mm__configuration__6_2_material">
        <color rgba="0.498039 0.498039 0.498039 1.0"/>
      </material>
    </visual>
    <collision>
      <origin xyz="0.0059011 0.00108492 -0.0351" rpy="1.25032e-13 -1.5708 0"/>
      <geometry>
        <mesh filename="package://assets/din_6325_3mm__configuration__6.stl"/>
      </geometry>
    </collision>
    <!-- Part screw_m2_5__configuration__20 -->
    <visual>
      <origin xyz="-0.00201098 -0.00565296 -0.0135" rpy="3.14159 -6.02467e-16 -1.5708"/>
      <geometry>
        <mesh filename="package://assets/screw_m2_5__configuration__20.stl"/>
      </geometry>
      <material name="screw_m2_5__configuration__20_material">
        <color rgba="0.498039 0.498039 0.498039 1.0"/>
      </material>
    </visual>
    <collision>
      <origin xyz="-0.00201098 -0.00565296 -0.0135" rpy="3.14159 -6.02467e-16 -1.5708"/>
      <geometry>
        <mesh filename="package://assets/screw_m2_5__configuration__20.stl"/>
      </geometry>
    </collision>
    <!-- Part din_6325_4mm__configuration__14 -->
    <visual>
      <origin xyz="-1.16573e-15 0.025 -0.0186" rpy="-3.77476e-15 -9.99201e-16 1.5708"/>
      <geometry>
        <mesh filename="package://assets/din_6325_4mm__configuration__14.stl"/>
      </geometry>
      <material name="din_6325_4mm__configuration__14_material">
        <color rgba="0.690196 0.690196 0.690196 1.0"/>
      </material>
    </visual>
    <collision>
      <origin xyz="-1.16573e-15 0.025 -0.0186" rpy="-3.77476e-15 -9.99201e-16 1.5708"/>
      <geometry>
        <mesh filename="package://assets/din_6325_4mm__configuration__14.stl"/>
      </geometry>
    </collision>
    <!-- Part washer__configuration_m2_5_15 -->
    <visual>
      <origin xyz="-0.00389012 0.00456804 -0.0151" rpy="-1.5708 1.37614e-18 -1.5708"/>
      <geometry>
        <mesh filename="package://assets/washer__configuration_m2_5.stl"/>
      </geometry>
      <material name="washer__configuration_m2_5_15_material">
        <color rgba="0.6 0.6 0.6 1.0"/>
      </material>
    </visual>
    <collision>
      <origin xyz="-0.00389012 0.00456804 -0.0151" rpy="-1.5708 1.37614e-18 -1.5708"/>
      <geometry>
        <mesh filename="package://assets/washer__configuration_m2_5.stl"/>
      </geometry>
    </collision>
    <!-- Part bearing_6804_2rs_4 -->
    <visual>
      <origin xyz="0 0 -0.0035" rpy="1.5708 -1.19515e-33 1.33851e-28"/>
      <geometry>
        <mesh filename="package://assets/bearing_6804_2rs.stl"/>
      </geometry>
      <material name="bearing_6804_2rs_4_material">
        <color rgba="0.498039 0.498039 0.498039 1.0"/>
      </material>
    </visual>
    <collision>
      <origin xyz="0 0 -0.0035" rpy="1.5708 -1.19515e-33 1.33851e-28"/>
      <geometry>
        <mesh filename="package://assets/bearing_6804_2rs.stl"/>
      </geometry>
    </collision>
    <!-- Part inner_crank_alu -->
    <visual>
      <origin xyz="-0.151 -8.35885e-15 0.0373" rpy="1.5708 1.37614e-18 -1.5708"/>
      <geometry>
        <mesh filename="package://assets/inner_crank_alu.stl"/>
      </geometry>
      <material name="inner_crank_alu_material">
        <color rgba="0.917647 0.917647 0.917647 1.0"/>
      </material>
    </visual>
    <collision>
      <origin xyz="-0.151 -8.35885e-15 0.0373" rpy="1.5708 1.37614e-18 -1.5708"/>
      <geometry>
        <mesh filename="package://assets/inner_crank_alu.stl"/>
      </geometry>
    </collision>
    <!-- Part screw_m2_5__configuration__20_2 -->
    <visual>
      <origin xyz="-0.00389012 0.00456804 -0.0135" rpy="3.14159 -6.02467e-16 -1.5708"/>
      <geometry>
        <mesh filename="package://assets/screw_m2_5__configuration__20.stl"/>
      </geometry>
      <material name="screw_m2_5__configuration__20_2_material">
        <color rgba="0.498039 0.498039 0.498039 1.0"/>
      </material>
    </visual>
    <collision>
      <origin xyz="-0.00389012 0.00456804 -0.0135" rpy="3.14159 -6.02467e-16 -1.5708"/>
      <geometry>
        <mesh filename="package://assets/screw_m2_5__configuration__20.stl"/>
      </geometry>
    </collision>
    <!-- Part inner_crank_mirror -->
    <visual>
      <origin xyz="-0.151 -8.31748e-15 -0.0181" rpy="1.5708 1.37614e-18 -1.5708"/>
      <geometry>
        <mesh filename="package://assets/inner_crank_mirror.stl"/>
      </geometry>
      <material name="inner_crank_mirror_material">
        <color rgba="0.262745 0.282353 0.301961 1.0"/>
      </material>
    </visual>
    <collision>
      <origin xyz="-0.151 -8.31748e-15 -0.0181" rpy="1.5708 1.37614e-18 -1.5708"/>
      <geometry>
        <mesh filename="package://assets/inner_crank_mirror.stl"/>
      </geometry>
    </collision>
    <!-- Part washer__configuration_m2_5_16 -->
    <visual>
      <origin xyz="-0.00885165 -0.00162738 -0.0116" rpy="-1.5708 1.37614e-18 -1.5708"/>
      <geometry>
        <mesh filename="package://assets/washer__configuration_m2_5.stl"/>
      </geometry>
      <material name="washer__configuration_m2_5_16_material">
        <color rgba="0.6 0.6 0.6 1.0"/>
      </material>
    </visual>
    <collision>
      <origin xyz="-0.00885165 -0.00162738 -0.0116" rpy="-1.5708 1.37614e-18 -1.5708"/>
      <geometry>
        <mesh filename="package://assets/washer__configuration_m2_5.stl"/>
      </geometry>
    </collision>
    <!-- Part screw_m2_5__configuration__20_3 -->
    <visual>
      <origin xyz="-0.00885165 -0.00162738 -0.01" rpy="3.14159 -6.02467e-16 -1.5708"/>
      <geometry>
        <mesh filename="package://assets/screw_m2_5__configuration__20.stl"/>
      </geometry>
      <material name="screw_m2_5__configuration__20_3_material">
        <color rgba="0.498039 0.498039 0.498039 1.0"/>
      </material>
    </visual>
    <collision>
      <origin xyz="-0.00885165 -0.00162738 -0.01" rpy="3.14159 -6.02467e-16 -1.5708"/>
      <geometry>
        <mesh filename="package://assets/screw_m2_5__configuration__20.stl"/>
      </geometry>
    </collision>
    <!-- Part outer_crank_alu_mirror -->
    <visual>
      <origin xyz="-0.151 -7.93931e-15 -0.0181" rpy="1.5708 1.37614e-18 -1.5708"/>
      <geometry>
        <mesh filename="package://assets/outer_crank_alu_mirror.stl"/>
      </geometry>
      <material name="outer_crank_alu_mirror_material">
        <color rgba="0.917647 0.917647 0.917647 1.0"/>
      </material>
    </visual>
    <collision>
      <origin xyz="-0.151 -7.93931e-15 -0.0181" rpy="1.5708 1.37614e-18 -1.5708"/>
      <geometry>
        <mesh filename="package://assets/outer_crank_alu_mirror.stl"/>
      </geometry>
    </collision>
    <!-- Part middle_crank -->
    <visual>
      <origin xyz="-0.151 -8.28669e-15 0.0273" rpy="1.5708 1.37614e-18 -1.5708"/>
      <geometry>
        <mesh filename="package://assets/middle_crank.stl"/>
      </geometry>
      <material name="middle_crank_material">
        <color rgba="0.262745 0.282353 0.301961 1.0"/>
      </material>
    </visual>
    <collision>
      <origin xyz="-0.151 -8.28669e-15 0.0273" rpy="1.5708 1.37614e-18 -1.5708"/>
      <geometry>
        <mesh filename="package://assets/middle_crank.stl"/>
      </geometry>
    </collision>
  </link>
  <!-- Link ankle_shaft -->
  <link name="ankle_shaft">
    <inertial>
      <origin xyz="-0.075 0.0250001 -0.0034" rpy="0 0 0"/>
      <mass value="0.0280654"/>
      <inertia ixx="7.26032e-06" ixy="2.13521e-05" ixz="-3.18607e-12" iyy="6.45626e-05" iyz="1.73978e-12" izz="7.17255e-05"/>
    </inertial>
    <!-- Part p210fm_plain_bearing -->
    <visual>
      <origin xyz="5.55112e-17 -1.38778e-16 -0.0069" rpy="-4.76784e-14 -6.67175e-15 -2.04725e-15"/>
      <geometry>
        <mesh filename="package://assets/p210fm_plain_bearing.stl"/>
      </geometry>
      <material name="p210fm_plain_bearing_material">
        <color rgba="0.901961 0.890196 0.635294 1.0"/>
      </material>
    </visual>
    <collision>
      <origin xyz="5.55112e-17 -1.38778e-16 -0.0069" rpy="-4.76784e-14 -6.67175e-15 -2.04725e-15"/>
      <geometry>
        <mesh filename="package://assets/p210fm_plain_bearing.stl"/>
      </geometry>
    </collision>
    <!-- Part p210fm_plain_bearing_2 -->
    <visual>
      <origin xyz="2.77556e-17 0 0.0001" rpy="-3.14159 9.014e-32 1.77636e-17"/>
      <geometry>
        <mesh filename="package://assets/p210fm_plain_bearing.stl"/>
      </geometry>
      <material name="p210fm_plain_bearing_2_material">
        <color rgba="0.901961 0.890196 0.635294 1.0"/>
      </material>
    </visual>
    <collision>
      <origin xyz="2.77556e-17 0 0.0001" rpy="-3.14159 9.014e-32 1.77636e-17"/>
      <geometry>
        <mesh filename="package://assets/p210fm_plain_bearing.stl"/>
      </geometry>
    </collision>
    <!-- Part p210fm_plain_bearing_3 -->
    <visual>
      <origin xyz="-0.15 0.05 0.0001" rpy="-3.14159 -2.28649e-14 -1.5708"/>
      <geometry>
        <mesh filename="package://assets/p210fm_plain_bearing.stl"/>
      </geometry>
      <material name="p210fm_plain_bearing_3_material">
        <color rgba="0.901961 0.890196 0.635294 1.0"/>
      </material>
    </visual>
    <collision>
      <origin xyz="-0.15 0.05 0.0001" rpy="-3.14159 -2.28649e-14 -1.5708"/>
      <geometry>
        <mesh filename="package://assets/p210fm_plain_bearing.stl"/>
      </geometry>
    </collision>
    <!-- Part screw_m2_5__configuration__8_7 -->
    <visual>
      <origin xyz="-0.138688 0.0499415 -0.0034" rpy="-1.5708 1.07721e-14 2.81984"/>
      <geometry>
        <mesh filename="package://assets/screw_m2_5__configuration__8.stl"/>
      </geometry>
      <material name="screw_m2_5__configuration__8_7_material">
        <color rgba="0.498039 0.498039 0.498039 1.0"/>
      </material>
    </visual>
    <collision>
      <origin xyz="-0.138688 0.0499415 -0.0034" rpy="-1.5708 1.07721e-14 2.81984"/>
      <geometry>
        <mesh filename="package://assets/screw_m2_5__configuration__8.stl"/>
      </geometry>
    </collision>
    <!-- Part ankle_shaft -->
    <visual>
      <origin xyz="0.151 0.025 0.0495" rpy="1.5708 2.38316e-14 1.5708"/>
      <geometry>
        <mesh filename="package://assets/ankle_shaft.stl"/>
      </geometry>
      <material name="ankle_shaft_material">
        <color rgba="0.498039 0.498039 0.498039 1.0"/>
      </material>
    </visual>
    <collision>
      <origin xyz="0.151 0.025 0.0495" rpy="1.5708 2.38316e-14 1.5708"/>
      <geometry>
        <mesh filename="package://assets/ankle_shaft.stl"/>
      </geometry>
    </collision>
    <!-- Part shaft_end -->
    <visual>
      <origin xyz="0.151 0.025 0.0495" rpy="1.5708 2.38316e-14 1.5708"/>
      <geometry>
        <mesh filename="package://assets/shaft_end.stl"/>
      </geometry>
      <material name="shaft_end_material">
        <color rgba="0.917647 0.917647 0.917647 1.0"/>
      </material>
    </visual>
    <collision>
      <origin xyz="0.151 0.025 0.0495" rpy="1.5708 2.38316e-14 1.5708"/>
      <geometry>
        <mesh filename="package://assets/shaft_end.stl"/>
      </geometry>
    </collision>
    <!-- Part screw_m2_5__configuration__8_8 -->
    <visual>
      <origin xyz="-0.131573 0.0475698 -0.0034" rpy="-1.5708 1.07633e-14 2.81984"/>
      <geometry>
        <mesh filename="package://assets/screw_m2_5__configuration__8.stl"/>
      </geometry>
      <material name="screw_m2_5__configuration__8_8_material">
        <color rgba="0.498039 0.498039 0.498039 1.0"/>
      </material>
    </visual>
    <collision>
      <origin xyz="-0.131573 0.0475698 -0.0034" rpy="-1.5708 1.07633e-14 2.81984"/>
      <geometry>
        <mesh filename="package://assets/screw_m2_5__configuration__8.stl"/>
      </geometry>
    </collision>
    <!-- Part screw_m2_5__configuration__8_9 -->
    <visual>
      <origin xyz="-0.0184271 0.00243019 -0.0034" rpy="1.5708 1.11129e-14 2.81984"/>
      <geometry>
        <mesh filename="package://assets/screw_m2_5__configuration__8.stl"/>
      </geometry>
      <material name="screw_m2_5__configuration__8_9_material">
        <color rgba="0.498039 0.498039 0.498039 1.0"/>
      </material>
    </visual>
    <collision>
      <origin xyz="-0.0184271 0.00243019 -0.0034" rpy="1.5708 1.11129e-14 2.81984"/>
      <geometry>
        <mesh filename="package://assets/screw_m2_5__configuration__8.stl"/>
      </geometry>
    </collision>
    <!-- Part shaft_end_2 -->
    <visual>
      <origin xyz="-0.301 0.025 0.0495" rpy="1.5708 -2.51733e-14 -1.5708"/>
      <geometry>
        <mesh filename="package://assets/shaft_end.stl"/>
      </geometry>
      <material name="shaft_end_2_material">
        <color rgba="0.917647 0.917647 0.917647 1.0"/>
      </material>
    </visual>
    <collision>
      <origin xyz="-0.301 0.025 0.0495" rpy="1.5708 -2.51733e-14 -1.5708"/>
      <geometry>
        <mesh filename="package://assets/shaft_end.stl"/>
      </geometry>
    </collision>
    <!-- Part screw_m2_5__configuration__8_10 -->
    <visual>
      <origin xyz="-0.011312 5.84785e-05 -0.0034" rpy="1.5708 1.11261e-14 2.81984"/>
      <geometry>
        <mesh filename="package://assets/screw_m2_5__configuration__8.stl"/>
      </geometry>
      <material name="screw_m2_5__configuration__8_10_material">
        <color rgba="0.498039 0.498039 0.498039 1.0"/>
      </material>
    </visual>
    <collision>
      <origin xyz="-0.011312 5.84785e-05 -0.0034" rpy="1.5708 1.11261e-14 2.81984"/>
      <geometry>
        <mesh filename="package://assets/screw_m2_5__configuration__8.stl"/>
      </geometry>
    </collision>
    <!-- Part p210fm_plain_bearing_4 -->
    <visual>
      <origin xyz="-0.15 0.05 -0.0069" rpy="-4.96768e-14 -6.1175e-15 -1.92513e-15"/>
      <geometry>
        <mesh filename="package://assets/p210fm_plain_bearing.stl"/>
      </geometry>
      <material name="p210fm_plain_bearing_4_material">
        <color rgba="0.901961 0.890196 0.635294 1.0"/>
      </material>
    </visual>
    <collision>
      <origin xyz="-0.15 0.05 -0.0069" rpy="-4.96768e-14 -6.1175e-15 -1.92513e-15"/>
      <geometry>
        <mesh filename="package://assets/p210fm_plain_bearing.stl"/>
      </geometry>
    </collision>
  </link>
  <!-- Frame closing_crank (dummy link + fixed joint) -->
  <link name="closing_crank">
    <origin xyz="0 0 0" rpy="0 -0 0"/>
    <inertial>
      <origin xyz="0 0 0" rpy="0 0 0"/>
      <mass value="1e-9"/>
      <inertia ixx="0" ixy="0" ixz="0" iyy="0" iyz="0" izz="0"/>
    </inertial>
  </link>
  <joint name="closing_crank_frame" type="fixed">
    <origin xyz="-0.15 0.05 -0.0068" rpy="1.5708 -6.1175e-15 -1.7919e-15"/>
    <parent link="ankle_shaft"/>
    <child link="closing_crank"/>
    <axis xyz="0 0 0"/>
  </joint>
  <!-- Joint from left_crank to ankle_shaft -->
  <joint name="upper_crank" type="revolute">
    <origin xyz="-5.76761e-14 0.025 -0.029" rpy="-3.14159 -9.93684e-16 2.49809"/>
    <parent link="left_crank"/>
    <child link="ankle_shaft"/>
    <axis xyz="0 0 1"/>
    <limit effort="10" velocity="10" lower="-3.141592653589793" upper="3.141592653589793"/>
  </joint>
  <!-- Joint from left_tibia to left_crank -->
  <joint name="ankle_passive" type="revolute">
    <origin xyz="-1.42561e-14 -1.11022e-15 -0.005" rpy="1.98711e-16 -7.13893e-17 -1.5708"/>
    <parent link="left_tibia"/>
    <child link="left_crank"/>
    <axis xyz="0 0 1"/>
    <limit effort="10" velocity="10" lower="-1.5708" upper="1.22173"/>
  </joint>
  <!-- Link benchmark_foot -->
  <link name="benchmark_foot">
    <inertial>
      <origin xyz="0.00774961 -0.0296086 -0.0198932" rpy="0 0 0"/>
      <mass value="0.0537006"/>
      <inertia ixx="2.62291e-05" ixy="-7.59785e-06" ixz="-8.44105e-08" iyy="4.43002e-05" iyz="3.07092e-07" izz="5.40586e-05"/>
    </inertial>
    <!-- Part din_6325_4mm__configuration__20 -->
    <visual>
      <origin xyz="0.025 -4.16334e-17 -0.0096" rpy="-1.40811e-16 -2.45899e-17 3.14159"/>
      <geometry>
        <mesh filename="package://assets/din_6325_4mm__configuration__20.stl"/>
      </geometry>
      <material name="din_6325_4mm__configuration__20_material">
        <color rgba="0.690196 0.690196 0.690196 1.0"/>
      </material>
    </visual>
    <collision>
      <origin xyz="0.025 -4.16334e-17 -0.0096" rpy="-1.40811e-16 -2.45899e-17 3.14159"/>
      <geometry>
        <mesh filename="package://assets/din_6325_4mm__configuration__20.stl"/>
      </geometry>
    </collision>
    <!-- Part benchmark_foot -->
    <visual>
      <origin xyz="2.19443e-16 0.301 -0.0272" rpy="-1.5708 -7.58912e-30 6.93889e-18"/>
      <geometry>
        <mesh filename="package://assets/benchmark_foot.stl"/>
      </geometry>
      <material name="benchmark_foot_material">
        <color rgba="0.262745 0.282353 0.301961 1.0"/>
      </material>
    </visual>
    <collision>
      <origin xyz="2.19443e-16 0.301 -0.0272" rpy="-1.5708 -7.58912e-30 6.93889e-18"/>
      <geometry>
        <mesh filename="package://assets/benchmark_foot.stl"/>
      </geometry>
    </collision>
    <!-- Part ankle_alu -->
    <visual>
      <origin xyz="8.97963e-16 0.301 -0.0626" rpy="-1.5708 4.91799e-17 4.51028e-16"/>
      <geometry>
        <mesh filename="package://assets/ankle_alu.stl"/>
      </geometry>
      <material name="ankle_alu_material">
        <color rgba="0.917647 0.917647 0.917647 1.0"/>
      </material>
    </visual>
    <collision>
      <origin xyz="8.97963e-16 0.301 -0.0626" rpy="-1.5708 4.91799e-17 4.51028e-16"/>
      <geometry>
        <mesh filename="package://assets/ankle_alu.stl"/>
      </geometry>
    </collision>
    <!-- Part ankle_alu_2 -->
    <visual>
      <origin xyz="1.26643e-15 0.301 -0.0726" rpy="-1.5708 2.3236e-16 9.4369e-16"/>
      <geometry>
        <mesh filename="package://assets/ankle_alu.stl"/>
      </geometry>
      <material name="ankle_alu_2_material">
        <color rgba="0.917647 0.917647 0.917647 1.0"/>
      </material>
    </visual>
    <collision>
      <origin xyz="1.26643e-15 0.301 -0.0726" rpy="-1.5708 2.3236e-16 9.4369e-16"/>
      <geometry>
        <mesh filename="package://assets/ankle_alu.stl"/>
      </geometry>
    </collision>
    <!-- Part ankle_mirror -->
    <visual>
      <origin xyz="-1.21431e-17 0.301 -0.0272" rpy="-1.5708 1.07742e-31 -1.30193e-30"/>
      <geometry>
        <mesh filename="package://assets/ankle_mirror.stl"/>
      </geometry>
      <material name="ankle_mirror_material">
        <color rgba="0.262745 0.282353 0.301961 1.0"/>
      </material>
    </visual>
    <collision>
      <origin xyz="-1.21431e-17 0.301 -0.0272" rpy="-1.5708 1.07742e-31 -1.30193e-30"/>
      <geometry>
        <mesh filename="package://assets/ankle_mirror.stl"/>
      </geometry>
    </collision>
  </link>
  <!-- Frame closing_foot (dummy link + fixed joint) -->
  <link name="closing_foot">
    <origin xyz="0 0 0" rpy="0 -0 0"/>
    <inertial>
      <origin xyz="0 0 0" rpy="0 0 0"/>
      <mass value="1e-9"/>
      <inertia ixx="0" ixy="0" ixz="0" iyy="0" iyz="0" izz="0"/>
    </inertial>
  </link>
  <joint name="closing_foot_frame" type="fixed">
    <origin xyz="0.025 -1.94289e-16 -0.0232" rpy="1.5708 -2.0777e-16 -3.14159"/>
    <parent link="benchmark_foot"/>
    <child link="closing_foot"/>
    <axis xyz="0 0 0"/>
  </joint>
  <!-- Frame foot (dummy link + fixed joint) -->
  <link name="foot">
    <origin xyz="0 0 0" rpy="0 -0 0"/>
    <inertial>
      <origin xyz="0 0 0" rpy="0 0 0"/>
      <mass value="1e-9"/>
      <inertia ixx="0" ixy="0" ixz="0" iyy="0" iyz="0" izz="0"/>
    </inertial>
  </link>
  <joint name="foot_frame" type="fixed">
    <origin xyz="-0.00573895 -0.0515 -0.0197" rpy="1.5708 7.63818e-30 -3.14159"/>
    <parent link="benchmark_foot"/>
    <child link="foot"/>
    <axis xyz="0 0 0"/>
  </joint>
  <!-- Joint from left_tibia to benchmark_foot -->
  <joint name="ankle_joint" type="revolute">
    <origin xyz="-3.31207e-14 -0.15 -0.0503" rpy="3.14159 8.42708e-16 3.14159"/>
    <parent link="left_tibia"/>
    <child link="benchmark_foot"/>
    <axis xyz="0 0 1"/>
    <limit effort="10" velocity="10" lower="-1.22173" upper="1.5708"/>
  </joint>
  <!-- Joint from aluminum_profile to left_tibia -->
  <joint name="knee_joint" type="revolute">
    <origin xyz="-0.000132957 -0.0835 0.269" rpy="1.5708 3.18659e-18 2.27523e-16"/>
    <parent link="aluminum_profile"/>
    <child link="left_tibia"/>
    <axis xyz="0 0 1"/>
    <limit effort="10" velocity="10" lower="-2.0944" upper="0"/>
  </joint>
  <!-- Link motor_pulley_2 -->
  <link name="motor_pulley_2">
    <inertial>
      <origin xyz="-6.05793e-16 4.59528e-05 -0.010399" rpy="0 0 0"/>
      <mass value="0.0695532"/>
      <inertia ixx="9.82762e-06" ixy="-2.72928e-21" ixz="-1.32382e-20" iyy="9.79581e-06" iyz="-2.8028e-08" izz="1.56643e-05"/>
    </inertial>
    <!-- Part din_6325_3mm__configuration__12_2 -->
    <visual>
      <origin xyz="0 0.01 -0.006" rpy="-1.5708 -1.5708 0"/>
      <geometry>
        <mesh filename="package://assets/din_6325_3mm__configuration__12.stl"/>
      </geometry>
      <material name="din_6325_3mm__configuration__12_2_material">
        <color rgba="0.498039 0.498039 0.498039 1.0"/>
      </material>
    </visual>
    <collision>
      <origin xyz="0 0.01 -0.006" rpy="-1.5708 -1.5708 0"/>
      <geometry>
        <mesh filename="package://assets/din_6325_3mm__configuration__12.stl"/>
      </geometry>
    </collision>
    <!-- Part screw_m3__configuration__12_7 -->
    <visual>
      <origin xyz="-0.01 0 -0.0102" rpy="0 -6.12303e-17 -1.5708"/>
      <geometry>
        <mesh filename="package://assets/screw_m3__configuration__12.stl"/>
      </geometry>
      <material name="screw_m3__configuration__12_7_material">
        <color rgba="0.301961 0.301961 0.301961 1.0"/>
      </material>
    </visual>
    <collision>
      <origin xyz="-0.01 0 -0.0102" rpy="0 -6.12303e-17 -1.5708"/>
      <geometry>
        <mesh filename="package://assets/screw_m3__configuration__12.stl"/>
      </geometry>
    </collision>
    <!-- Part screw_m3__configuration__12_8 -->
    <visual>
      <origin xyz="-0.005 0.00866025 -0.0102" rpy="0 -6.12303e-17 -1.5708"/>
      <geometry>
        <mesh filename="package://assets/screw_m3__configuration__12.stl"/>
      </geometry>
      <material name="screw_m3__configuration__12_8_material">
        <color rgba="0.301961 0.301961 0.301961 1.0"/>
      </material>
    </visual>
    <collision>
      <origin xyz="-0.005 0.00866025 -0.0102" rpy="0 -6.12303e-17 -1.5708"/>
      <geometry>
        <mesh filename="package://assets/screw_m3__configuration__12.stl"/>
      </geometry>
    </collision>
    <!-- Part screw_m3__configuration__12_9 -->
    <visual>
      <origin xyz="0.005 0.00866025 -0.0102" rpy="0 -6.12303e-17 -1.5708"/>
      <geometry>
        <mesh filename="package://assets/screw_m3__configuration__12.stl"/>
      </geometry>
      <material name="screw_m3__configuration__12_9_material">
        <color rgba="0.301961 0.301961 0.301961 1.0"/>
      </material>
    </visual>
    <collision>
      <origin xyz="0.005 0.00866025 -0.0102" rpy="0 -6.12303e-17 -1.5708"/>
      <geometry>
        <mesh filename="package://assets/screw_m3__configuration__12.stl"/>
      </geometry>
    </collision>
    <!-- Part screw_m3__configuration__12_10 -->
    <visual>
      <origin xyz="0.005 -0.00866025 -0.0102" rpy="0 -6.12303e-17 -1.5708"/>
      <geometry>
        <mesh filename="package://assets/screw_m3__configuration__12.stl"/>
      </geometry>
      <material name="screw_m3__configuration__12_10_material">
        <color rgba="0.301961 0.301961 0.301961 1.0"/>
      </material>
    </visual>
    <collision>
      <origin xyz="0.005 -0.00866025 -0.0102" rpy="0 -6.12303e-17 -1.5708"/>
      <geometry>
        <mesh filename="package://assets/screw_m3__configuration__12.stl"/>
      </geometry>
    </collision>
    <!-- Part screw_m3__configuration__12_11 -->
    <visual>
      <origin xyz="-0.005 -0.00866025 -0.0102" rpy="0 -6.12303e-17 -1.5708"/>
      <geometry>
        <mesh filename="package://assets/screw_m3__configuration__12.stl"/>
      </geometry>
      <material name="screw_m3__configuration__12_11_material">
        <color rgba="0.301961 0.301961 0.301961 1.0"/>
      </material>
    </visual>
    <collision>
      <origin xyz="-0.005 -0.00866025 -0.0102" rpy="0 -6.12303e-17 -1.5708"/>
      <geometry>
        <mesh filename="package://assets/screw_m3__configuration__12.stl"/>
      </geometry>
    </collision>
    <!-- Part motor_pulley_2 -->
    <visual>
      <origin xyz="0 0 -0.0194" rpy="-1.5708 -1.5708 0"/>
      <geometry>
        <mesh filename="package://assets/motor_pulley.stl"/>
      </geometry>
      <material name="motor_pulley_2_material">
        <color rgba="0.690196 0.690196 0.690196 1.0"/>
      </material>
    </visual>
    <collision>
      <origin xyz="0 0 -0.0194" rpy="-1.5708 -1.5708 0"/>
      <geometry>
        <mesh filename="package://assets/motor_pulley.stl"/>
      </geometry>
    </collision>
    <!-- Part screw_m3__configuration__12_12 -->
    <visual>
      <origin xyz="0.01 0 -0.0102" rpy="0 -6.12303e-17 -1.5708"/>
      <geometry>
        <mesh filename="package://assets/screw_m3__configuration__12.stl"/>
      </geometry>
      <material name="screw_m3__configuration__12_12_material">
        <color rgba="0.301961 0.301961 0.301961 1.0"/>
      </material>
    </visual>
    <collision>
      <origin xyz="0.01 0 -0.0102" rpy="0 -6.12303e-17 -1.5708"/>
      <geometry>
        <mesh filename="package://assets/screw_m3__configuration__12.stl"/>
      </geometry>
    </collision>
  </link>
  <!-- Joint from aluminum_profile to motor_pulley_2 -->
  <joint name="ankle_motor" type="revolute">
    <origin xyz="-0.000132957 -0.0533001 0.357" rpy="1.5708 -1.5708 0"/>
    <parent link="aluminum_profile"/>
    <child link="motor_pulley_2"/>
    <axis xyz="0 0 1"/>
    <limit effort="10" velocity="10" lower="-3.141592653589793" upper="3.141592653589793"/>
  </joint>
</robot>
